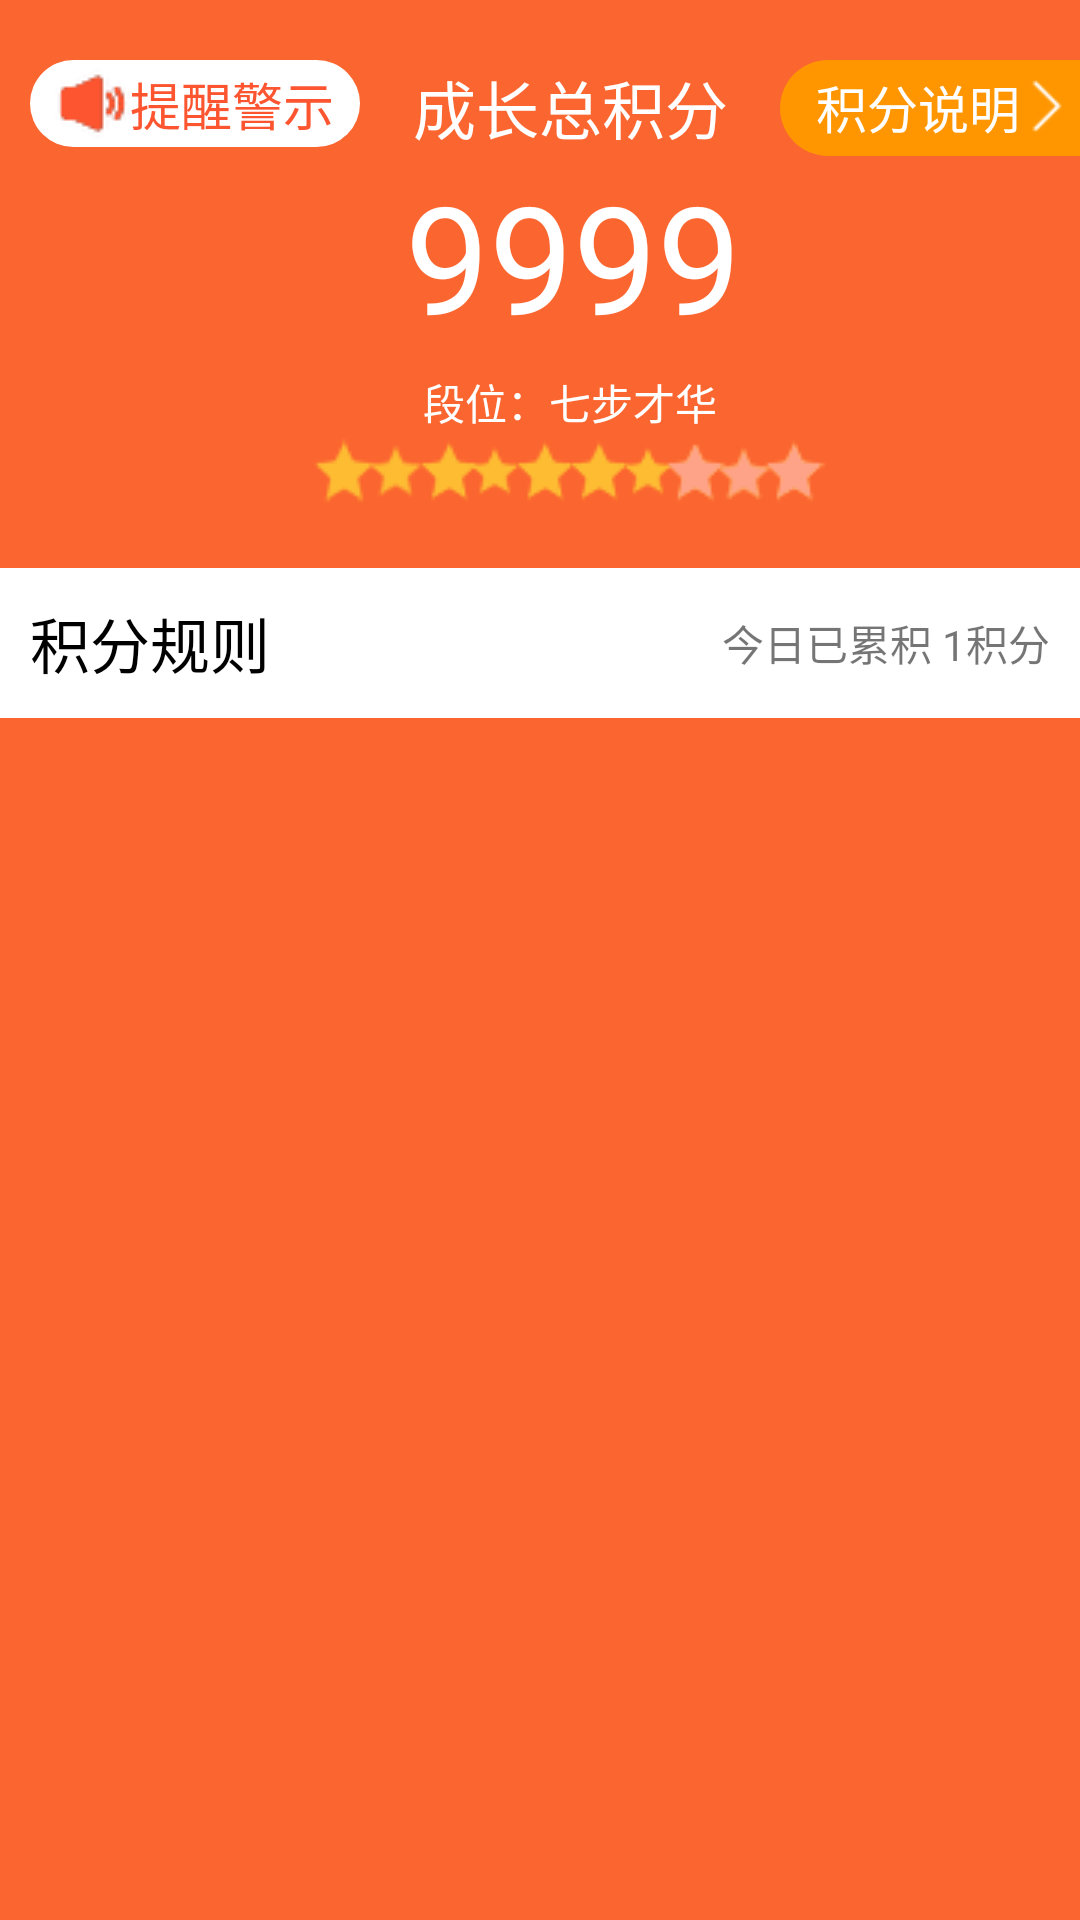

Icons on this 1080*1920 Android screen, each with the point to tap as (x=x, y=y):
right: (x=1047, y=106)
speaker: (x=92, y=103)
